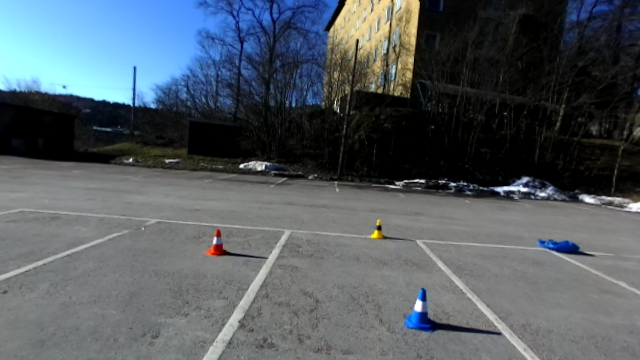blue: (404, 287, 436, 331)
orange: (205, 229, 225, 257)
yellow: (369, 219, 385, 238)
